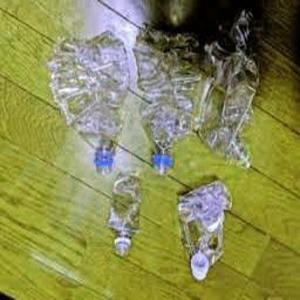Plastic: (47, 28, 128, 176), (132, 27, 199, 177), (200, 8, 262, 168), (173, 183, 236, 281), (109, 174, 144, 260)
